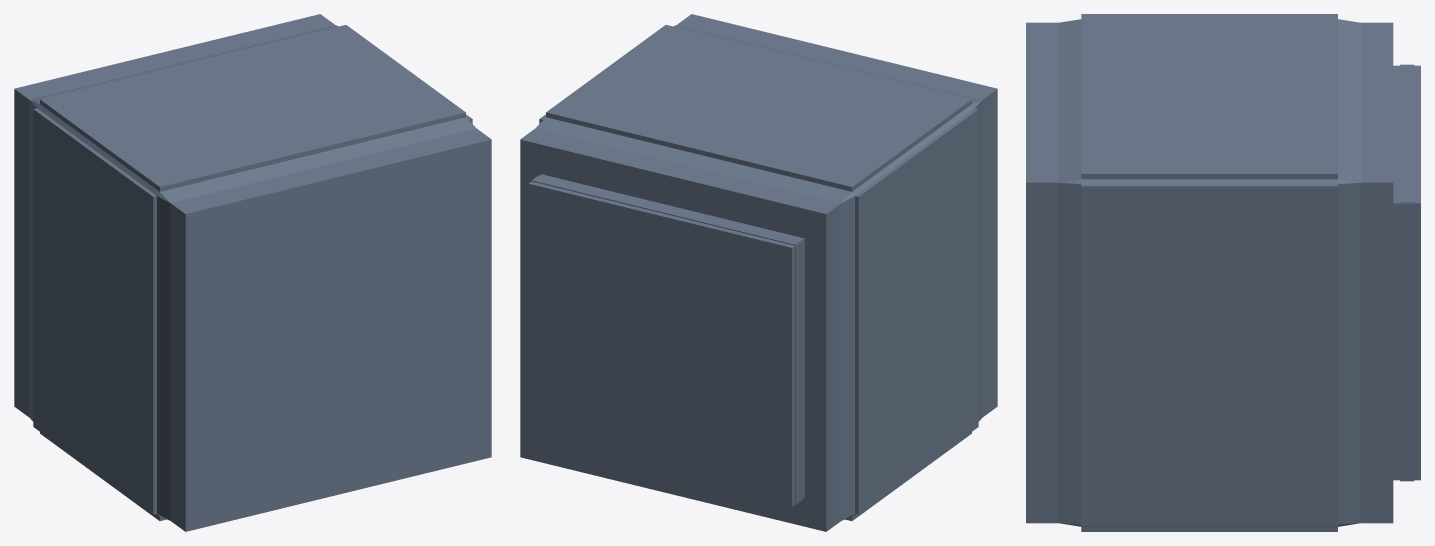
File: bb_comp_Signals_ConsoleHousing.fbx
3 renders of one model, left to right at view 1: azimuth 30°, elevation 25°; view 2: azimuth 150°, elevation 25°; view 3: azimuth 270°, elevation 25°, orthographic. The views are drawn at different scales.
Parts seen in each view (by area): view 1: bb_comp_Signals_ConsoleHousing; view 2: bb_comp_Signals_ConsoleHousing; view 3: bb_comp_Signals_ConsoleHousing.
Boxes of the visible parts, x1=… form: bb_comp_Signals_ConsoleHousing: x1=14, y1=14, x2=491, y2=531; bb_comp_Signals_ConsoleHousing: x1=520, y1=14, x2=997, y2=531; bb_comp_Signals_ConsoleHousing: x1=1026, y1=14, x2=1420, y2=531.
Size of the model in its own units: 1 by 1 by 1.
